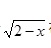sqrt: (4, 17, 47, 37)
